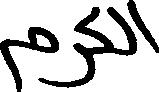X: (0, 22, 55, 91), (57, 11, 87, 91), (89, 2, 109, 85), (134, 0, 158, 58), (111, 0, 132, 60)
